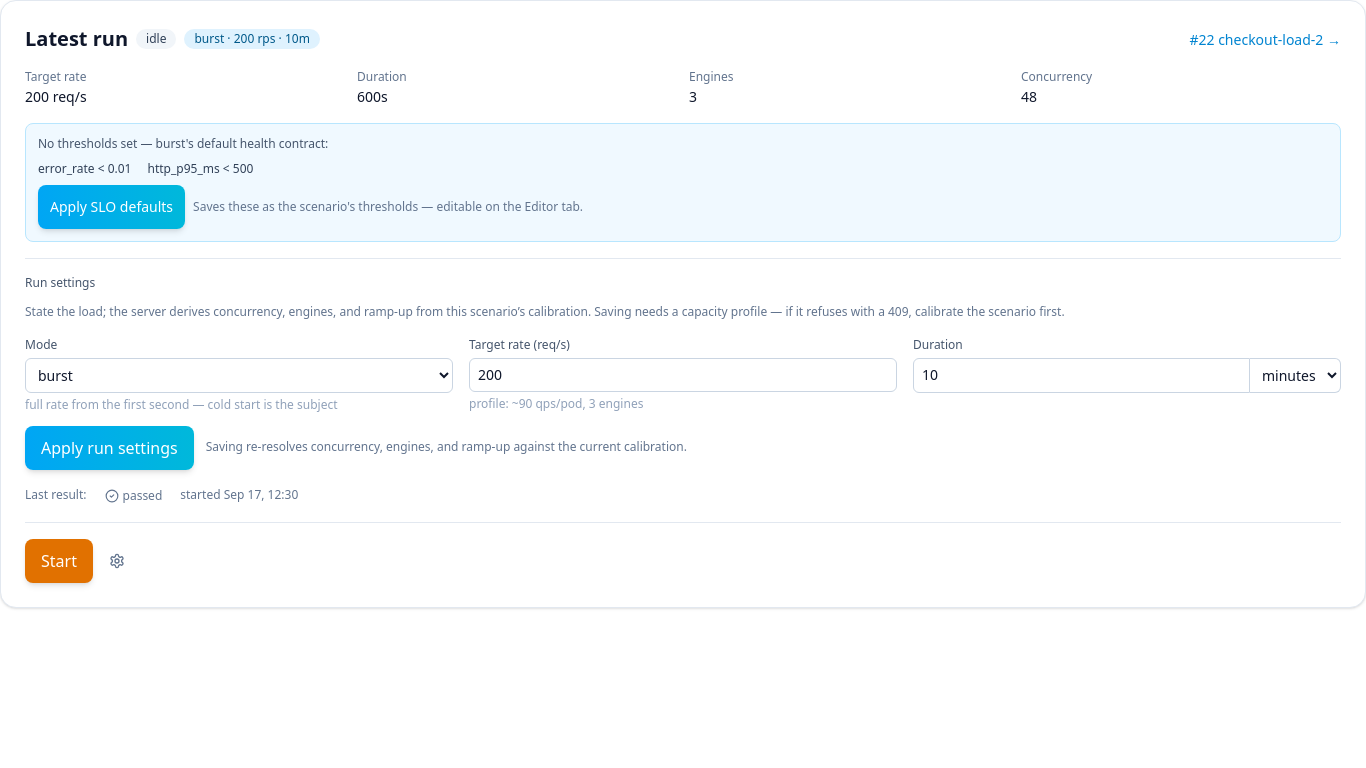
Test: ScenarioRunPanel — start flow and empty-state create › cancel during the deploying wait escapes, and busy locks the editor
The width and height of the screenshot is (1366, 768).
Click the button "Start": click(59, 561) [25,539,93,583]
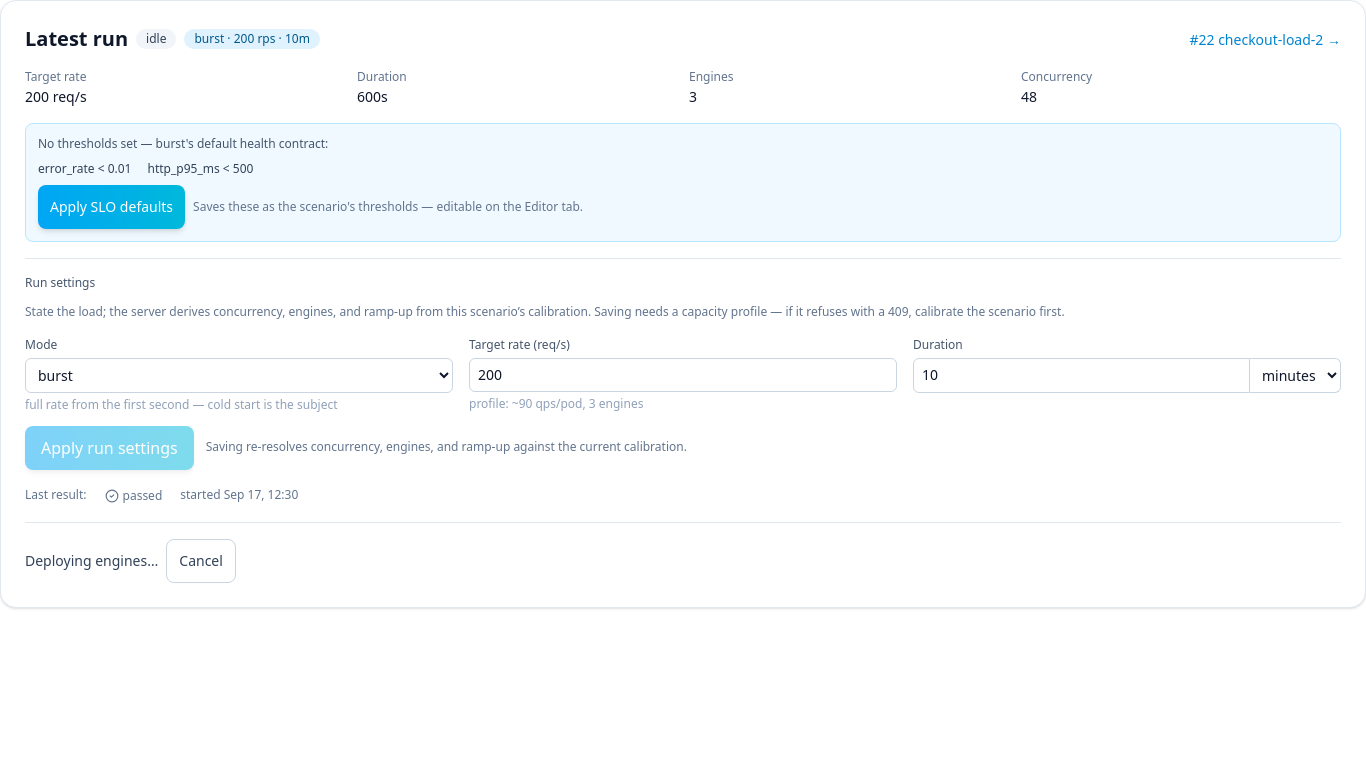
Now the element with test id "start-flow-deploying" shows "Deploying engines…", box [25,551,158,570]
Click the button with test id "start-flow-cancel": click(201, 561) [166,539,236,583]
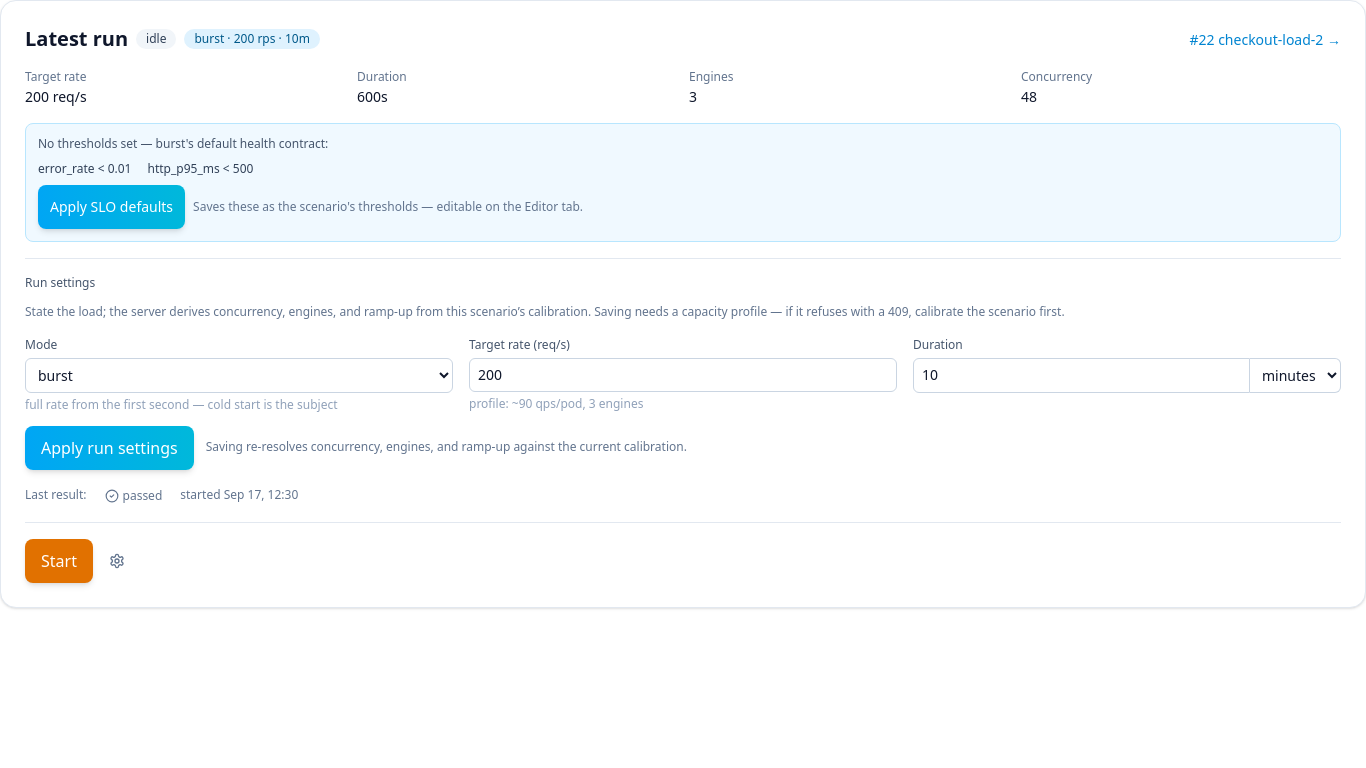
Now the element with test id "start-flow-deploying" is gone
